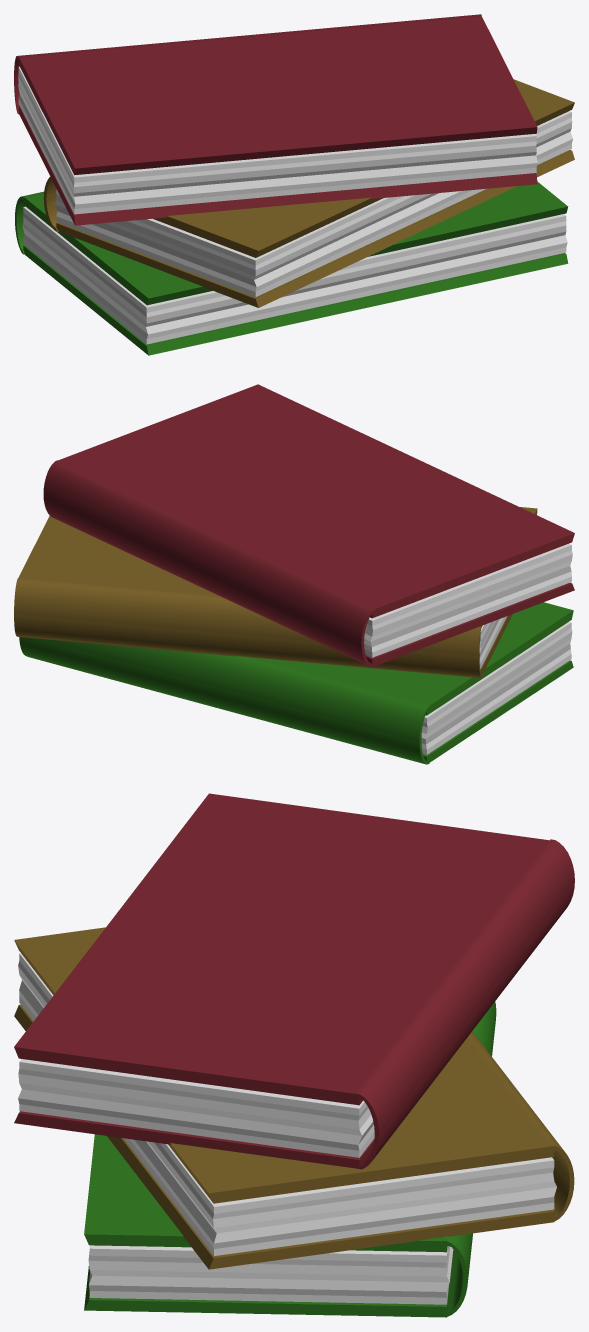
Rendered from prop_book_stack.glb.
3 views of the same model, one above another, from view 1: azimuth 30°, elevation 25°; view 2: azimuth 150°, elevation 25°; view 3: azimuth 270°, elevation 25° (orthographic). The views are drawn at different scales.
Parts seen in each view (by area): view 1: Cube.001_Material.013_0; view 2: Cube.001_Material.013_0; view 3: Cube.001_Material.013_0.
Boxes of the visible parts, x1,y1,x2,y2 form: Cube.001_Material.013_0: (14, 14, 574, 355); Cube.001_Material.013_0: (14, 384, 574, 764); Cube.001_Material.013_0: (14, 793, 574, 1317).
Size of the model in its own units: 0.4258 by 0.1384 by 0.3102.
